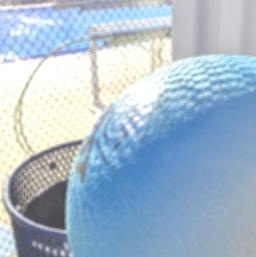algae: (62, 50, 256, 257)
